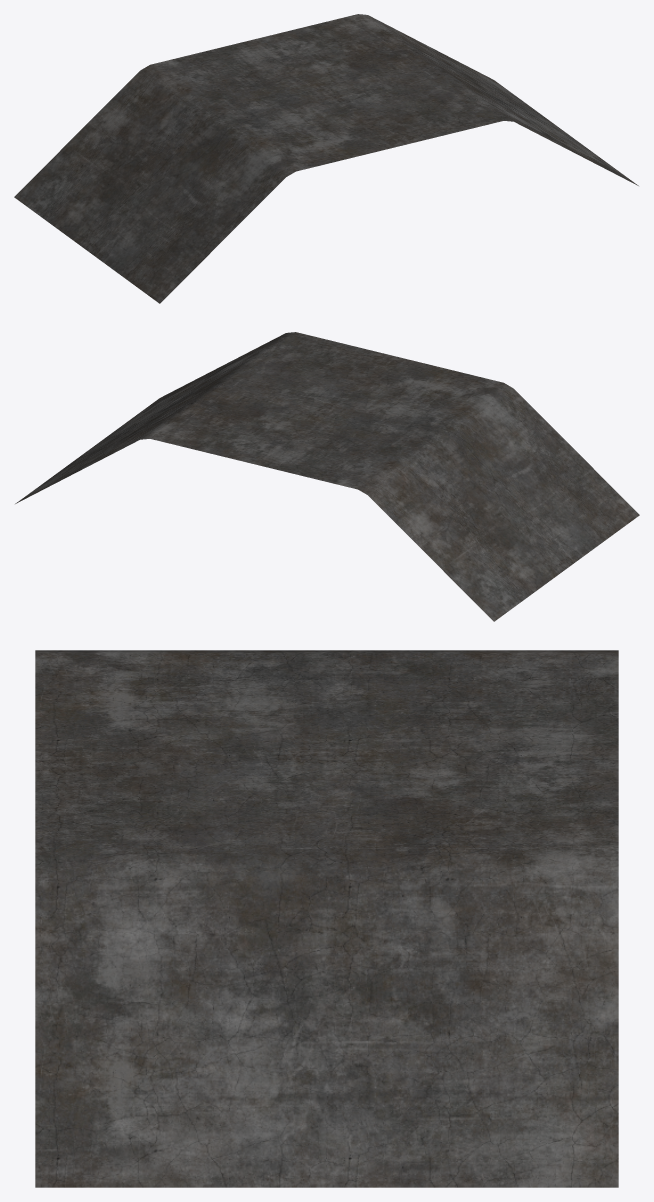
Rendered from Basement_Corridor_A_Ceiling_Arched_4x2m.glb.
3 views of the same model, one above another, from view 1: azimuth 30°, elevation 25°; view 2: azimuth 150°, elevation 25°; view 3: azimuth 270°, elevation 25° (orthographic). The views are drawn at different scales.
Parts seen in each view (by area): view 1: Basement_Corridor_A_Ceiling_Arched_4x2m; view 2: Basement_Corridor_A_Ceiling_Arched_4x2m; view 3: Basement_Corridor_A_Ceiling_Arched_4x2m.
Part boxes in pixels (x1,y1,x2,y2): Basement_Corridor_A_Ceiling_Arched_4x2m: (14,14,638,303); Basement_Corridor_A_Ceiling_Arched_4x2m: (15,332,639,621); Basement_Corridor_A_Ceiling_Arched_4x2m: (35,650,618,1187).
Bounding box in the file's own units: 3.8 × 0.75 × 2.
Materials: 1 (1 with a texture image).
